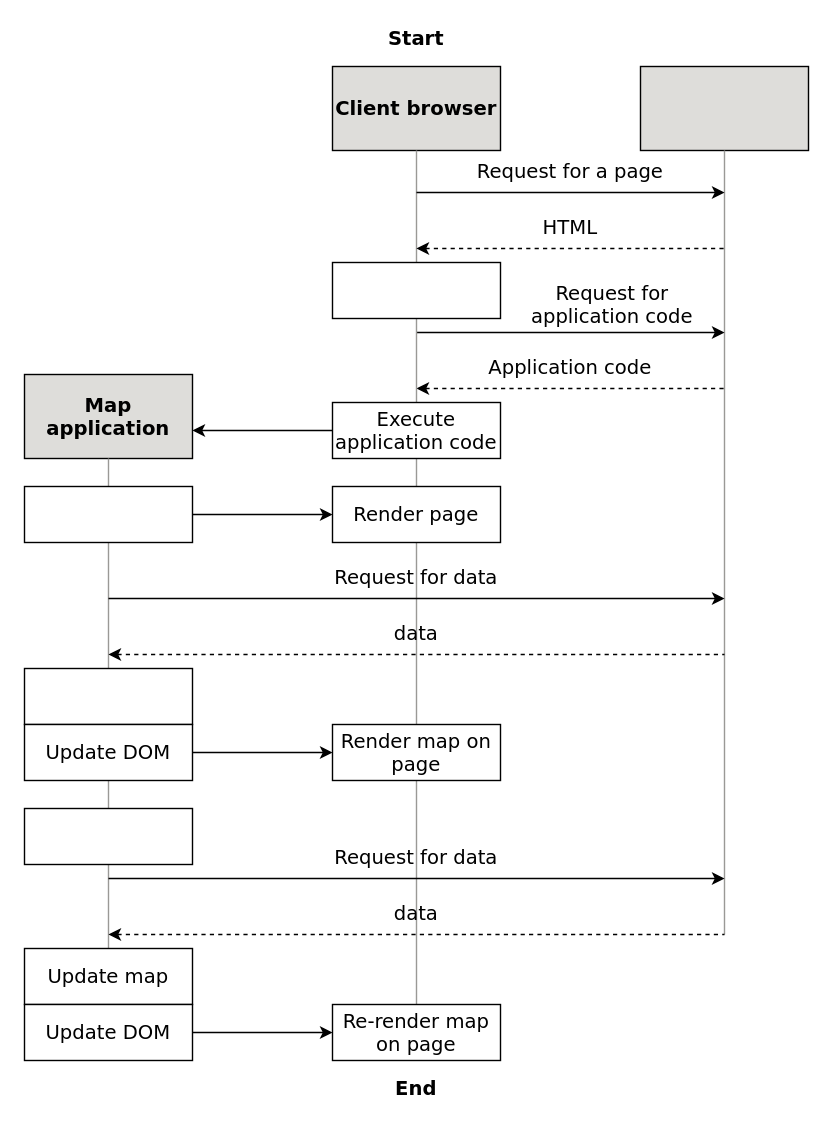
Image size: 833x1126. Some labels were removed from this diagram. Each missing label, with the centre of its shape:
Modify DOM: [107,513]
Parse HTML: [415,289]
Produce map: [107,695]
Server: [723,107]
User changes mapped data: [107,835]
